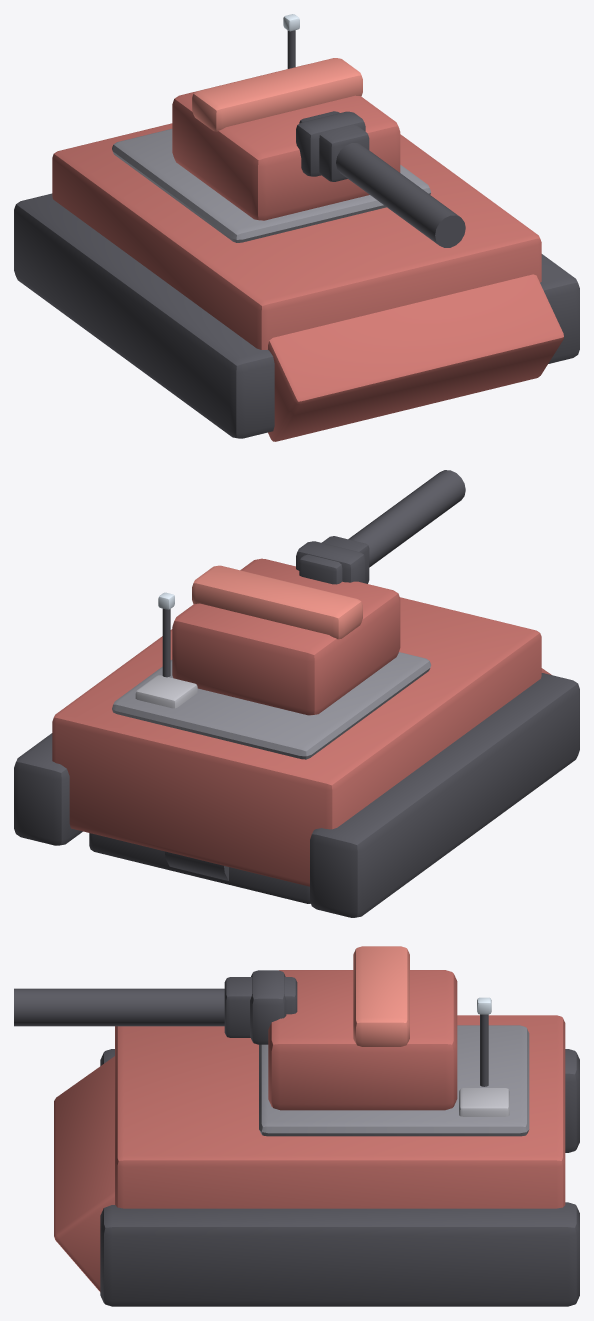
The model's file is red_mediumTank.glb.
3 views of the same model, one above another, from view 1: azimuth 30°, elevation 25°; view 2: azimuth 150°, elevation 25°; view 3: azimuth 270°, elevation 25° (orthographic). The views are drawn at different scales.
Parts seen in each view (by area): view 1: hull_static, turret; view 2: hull_static, turret; view 3: hull_static, turret.
Boxes of the visible parts, x1,y1,x2,y2 form: hull_static: (14,14,579,441); turret: (172,58,465,247); hull_static: (14,592,579,917); turret: (172,470,465,715); hull_static: (54,997,579,1306); turret: (14,946,457,1110).
Bounding box in the file's own units: 2.95 × 2.03 × 3.9.
